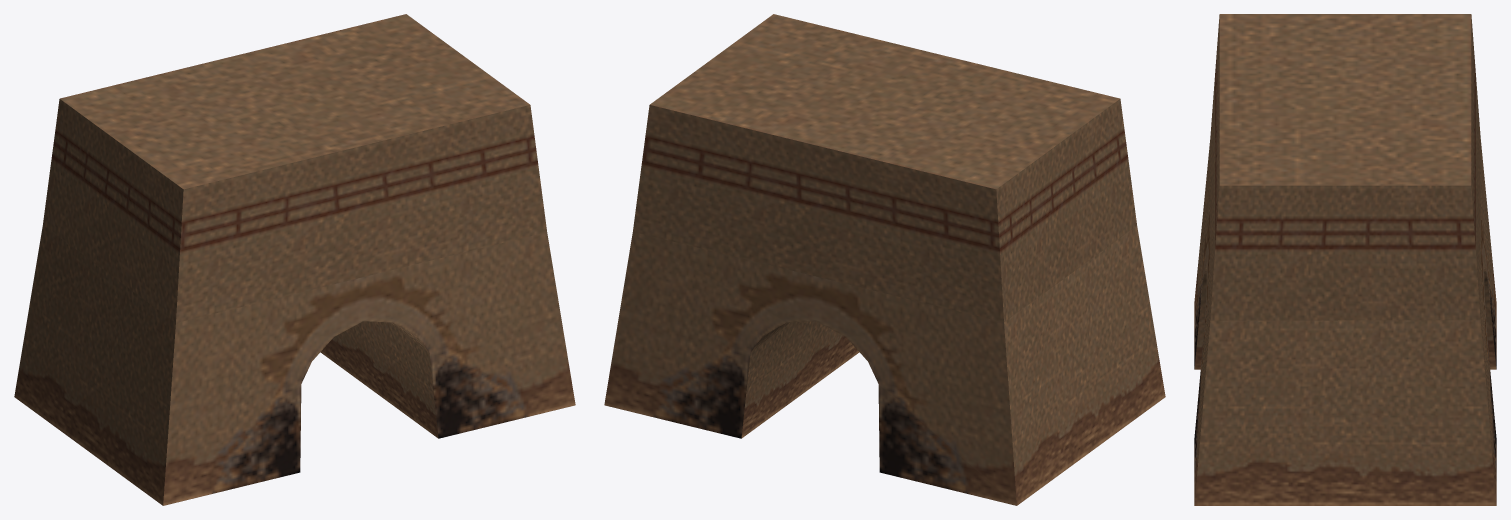
Rendered from b_qy_chengmen01_lod2.FBX.
3 renders of one model, left to right at view 1: azimuth 30°, elevation 25°; view 2: azimuth 150°, elevation 25°; view 3: azimuth 270°, elevation 25°, orthographic.
Parts seen in each view (by area): view 1: b_qy_chengmen01_lod2; view 2: b_qy_chengmen01_lod2; view 3: b_qy_chengmen01_lod2.
Part boxes in pixels (bbox=[...]): b_qy_chengmen01_lod2: bbox=[14, 14, 575, 505]; b_qy_chengmen01_lod2: bbox=[604, 14, 1165, 505]; b_qy_chengmen01_lod2: bbox=[1194, 14, 1496, 505].
Size of the model in its own units: 29.9 by 20.73 by 18.68.
